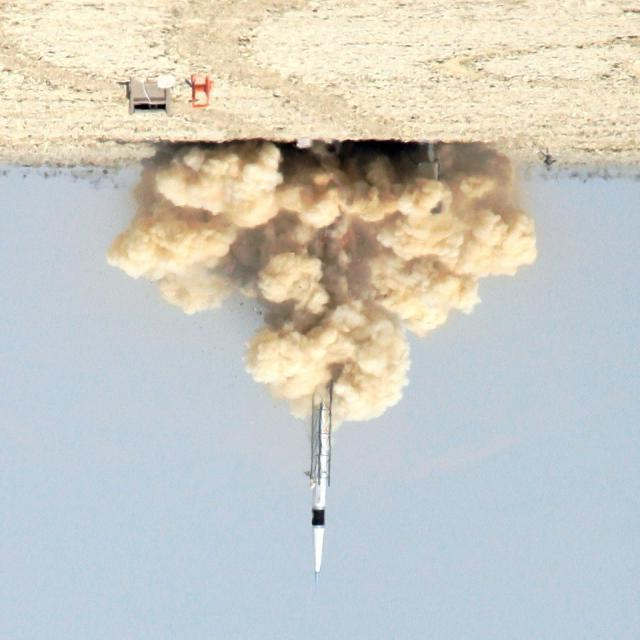missile: (297, 363, 343, 588)
